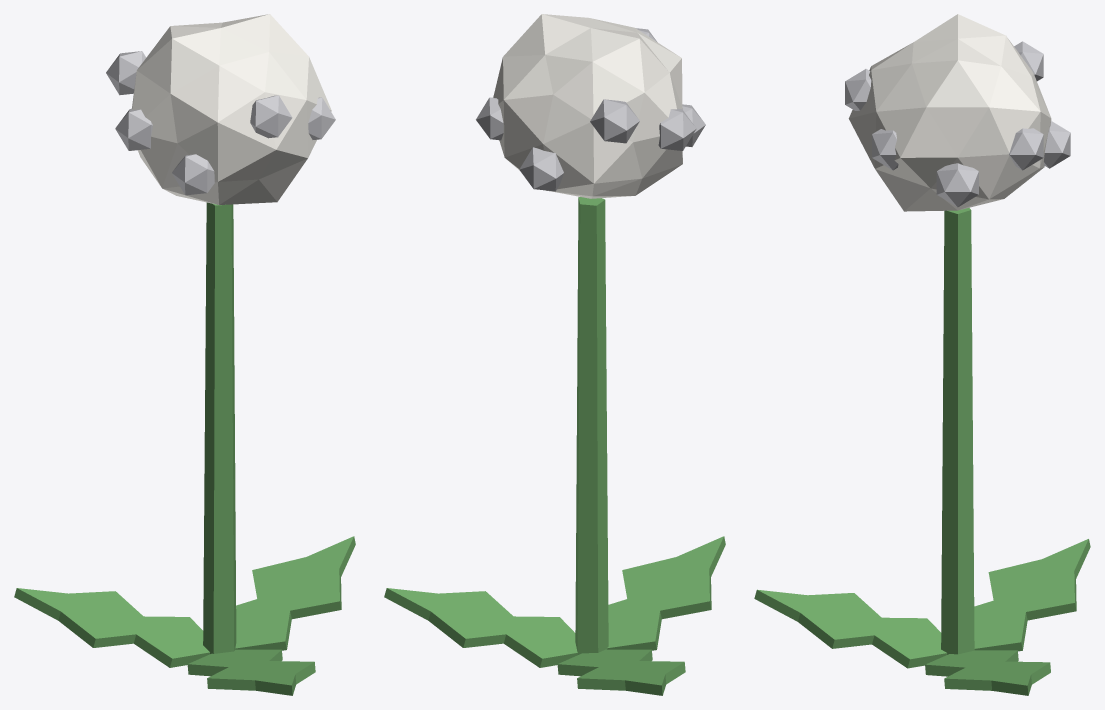
Rendered from deco_dandelion.obj.
The picture shows the model from 3 angles, left to right: view 1: azimuth 30°, elevation 25°; view 2: azimuth 150°, elevation 25°; view 3: azimuth 270°, elevation 25°; orthographic projection.
Visible parts, largest first — view 1: deco_dandelion; view 2: deco_dandelion; view 3: deco_dandelion.
Boxes of the visible parts, x1,y1,x2,y2 form: deco_dandelion: [14, 14, 355, 695]; deco_dandelion: [384, 14, 725, 695]; deco_dandelion: [754, 14, 1090, 695].
Size of the model in its own units: 0.05 by 0.0975 by 0.0477.
Materials: 1 (1 with a texture image).
